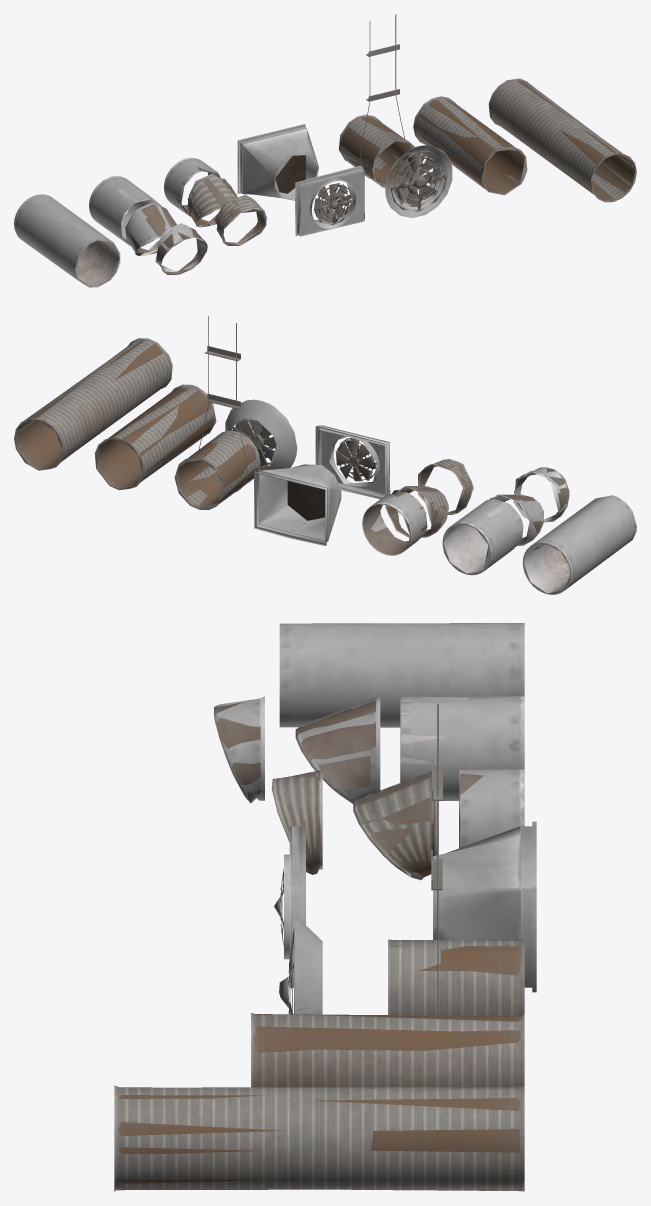
File: modular_airduct_circular_01.slim.glb
3 renders of one model, top to bottom at view 1: azimuth 30°, elevation 25°; view 2: azimuth 150°, elevation 25°; view 3: azimuth 270°, elevation 25°, orthographic. The views are drawn at different scales.
Size of the model in its own units: 4.17 by 1.32 by 1.46.
Materials: 1 (1 with a texture image).
